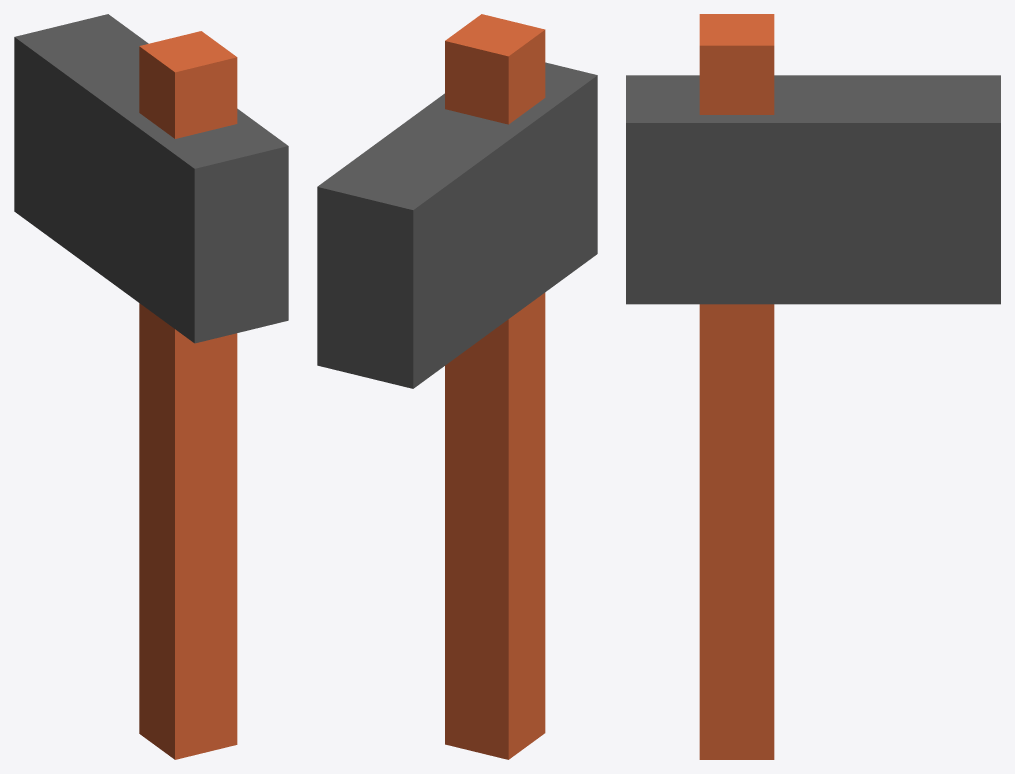
The model's file is M_Axe.fbx.
3 renders of one model, left to right at view 1: azimuth 30°, elevation 25°; view 2: azimuth 150°, elevation 25°; view 3: azimuth 270°, elevation 25°, orthographic. The views are drawn at different scales.
Parts seen in each view (by area): view 1: Axe; view 2: Axe; view 3: Axe.
Part boxes in pixels (x1,y1,x2,y2): Axe: (14, 14, 288, 759); Axe: (317, 14, 597, 759); Axe: (626, 14, 1000, 759).
Bounding box in the file's own units: 11.03 × 77.24 × 36.71.
